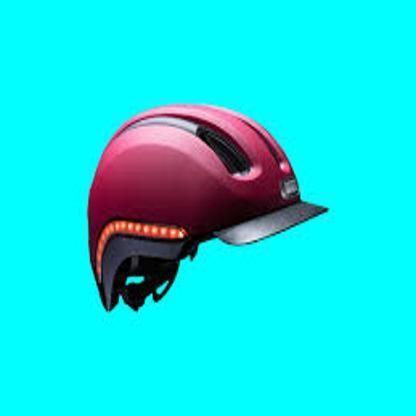not trash: (84, 100, 331, 312)
